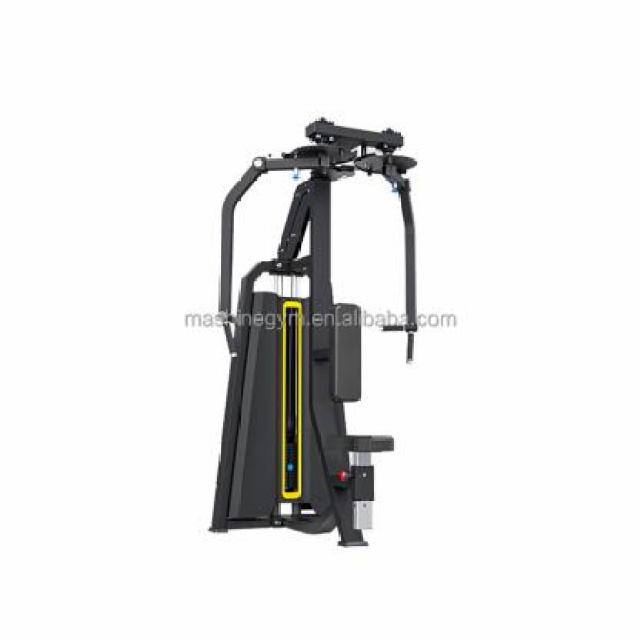chest fly machine: (174, 105, 443, 566)
